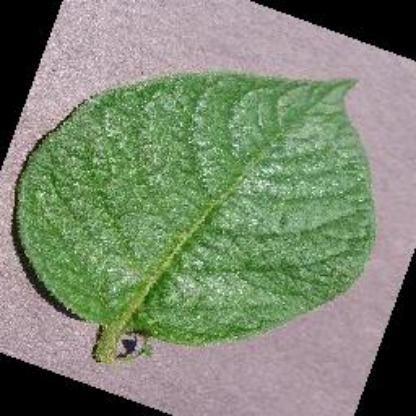Healthy-plant: (13, 63, 380, 361)
